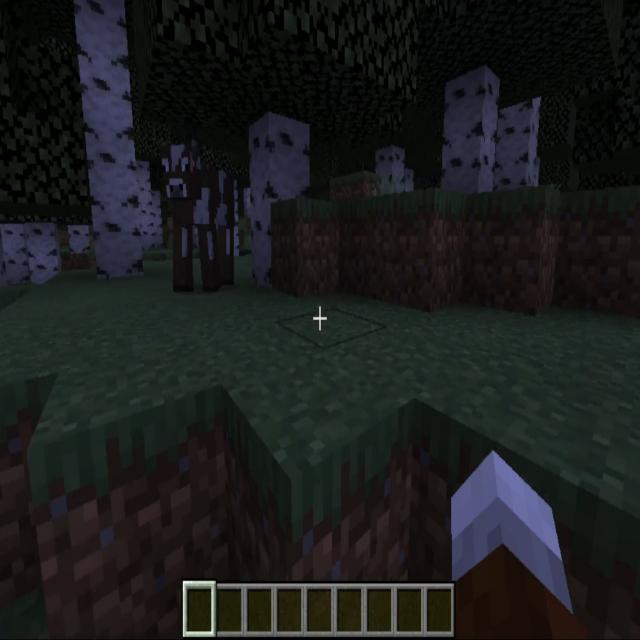Cow: (158, 136, 236, 289)
